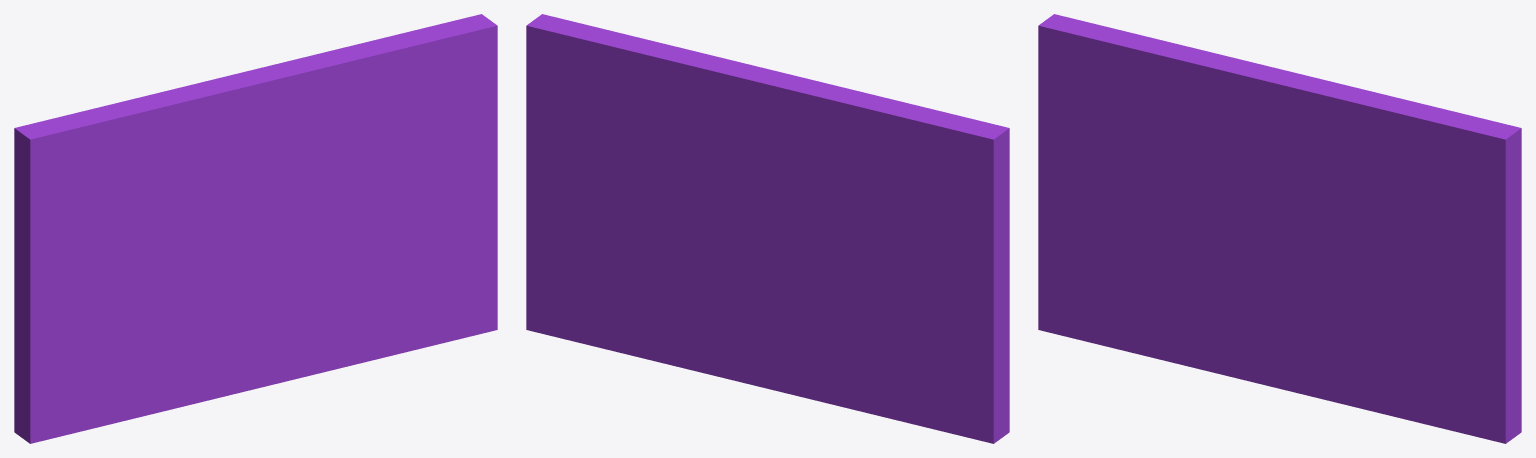
The model's file is Barrier_92_chunks.fbx.
3 renders of one model, left to right at view 1: azimuth 30°, elevation 25°; view 2: azimuth 150°, elevation 25°; view 3: azimuth 330°, elevation 25°, orthographic.
Visible parts, largest first — view 1: Barrier_92_1, Barrier_92_0, Barrier_92_2, Barrier_92_3; view 2: Barrier_92_0, Barrier_92_3, Barrier_92_1, Barrier_92_2; view 3: Barrier_92_1, Barrier_92_0, Barrier_92_2, Barrier_92_3.
Boxes of the visible parts, x1,y1,x2,y2 form: Barrier_92_1: (235,137,497,393); Barrier_92_0: (14,179,253,443); Barrier_92_2: (14,76,286,249); Barrier_92_3: (227,14,497,214); Barrier_92_0: (753,190,1009,443); Barrier_92_3: (526,14,781,244); Barrier_92_1: (526,162,770,389); Barrier_92_2: (754,65,1009,215); Barrier_92_1: (1244,225,1521,443); Barrier_92_0: (1038,109,1261,379); Barrier_92_2: (1038,14,1294,244); Barrier_92_3: (1267,66,1521,263).
Bounding box in the file's own units: 462 × 288 × 27.2.
